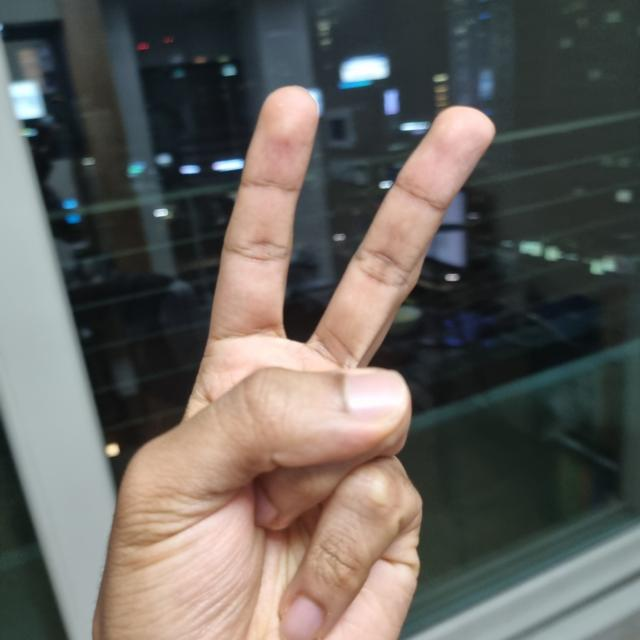Scissors: (89, 88, 490, 639)
